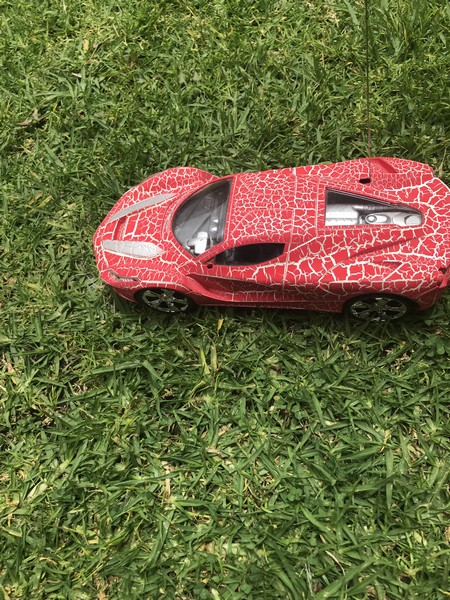RC: (91, 154, 450, 325)
